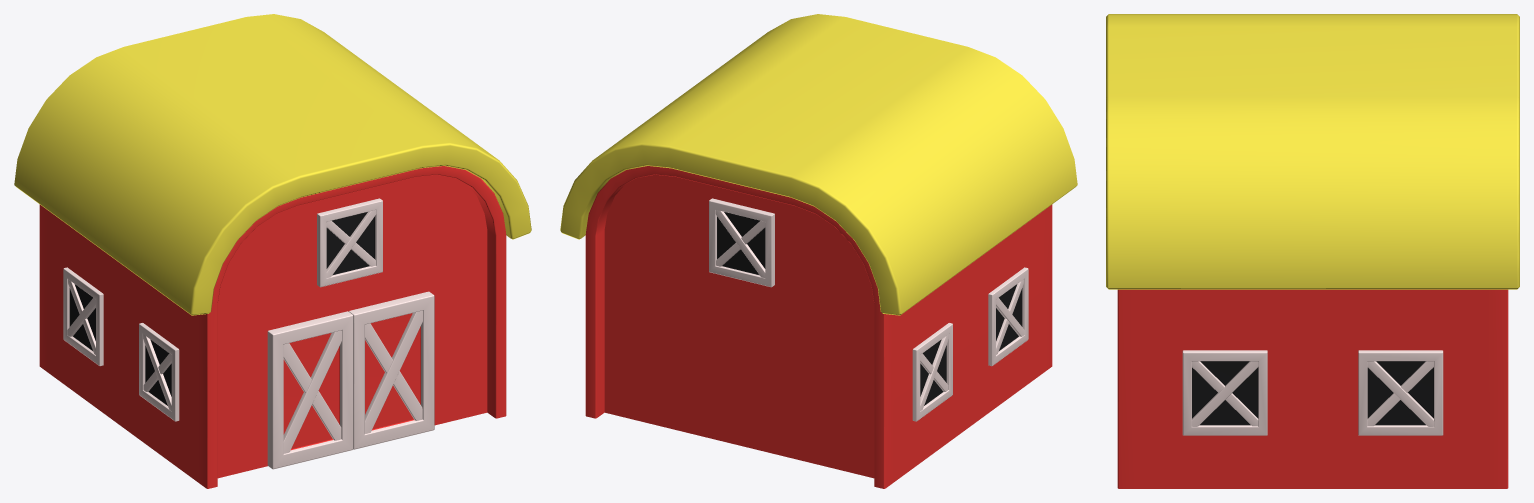
The model's file is Farm_17_Barn_1.glb.
3 renders of one model, left to right at view 1: azimuth 30°, elevation 25°; view 2: azimuth 150°, elevation 25°; view 3: azimuth 270°, elevation 25°, orthographic. The views are drawn at different scales.
Parts seen in each view (by area): view 1: Farm_17_Barn_1; view 2: Farm_17_Barn_1; view 3: Farm_17_Barn_1.
Part boxes in pixels (x1,y1,x2,y2): Farm_17_Barn_1: (14, 14, 531, 488); Farm_17_Barn_1: (560, 14, 1077, 488); Farm_17_Barn_1: (1106, 14, 1519, 488).
Bounding box in the file's own units: 7 × 5.77 × 6.32.
1 material, 1 textured.
